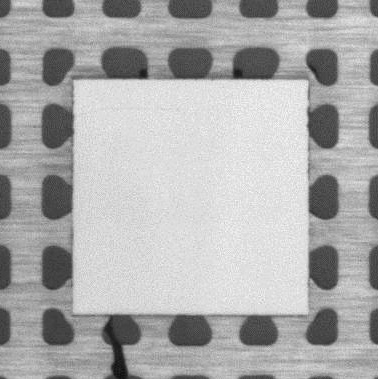DIE_CRACK: (75, 105, 187, 119)
